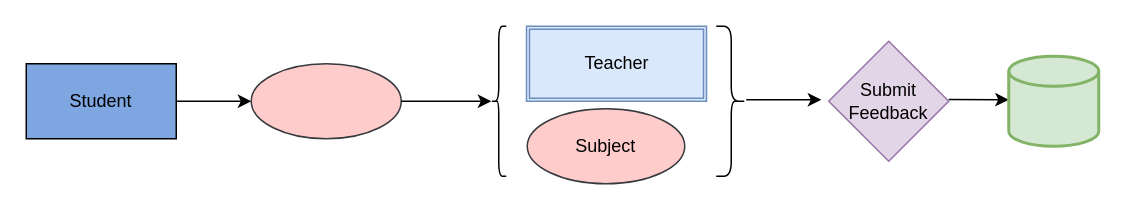
The diagram is 1127 pixels wide and 210 high, and some of its shapes have lost their labels. The centre of each missing label's shape, as x and y in pixels:
"Roll no" goes at point (325, 100).
"Submitted Feedback" goes at point (1053, 100).
